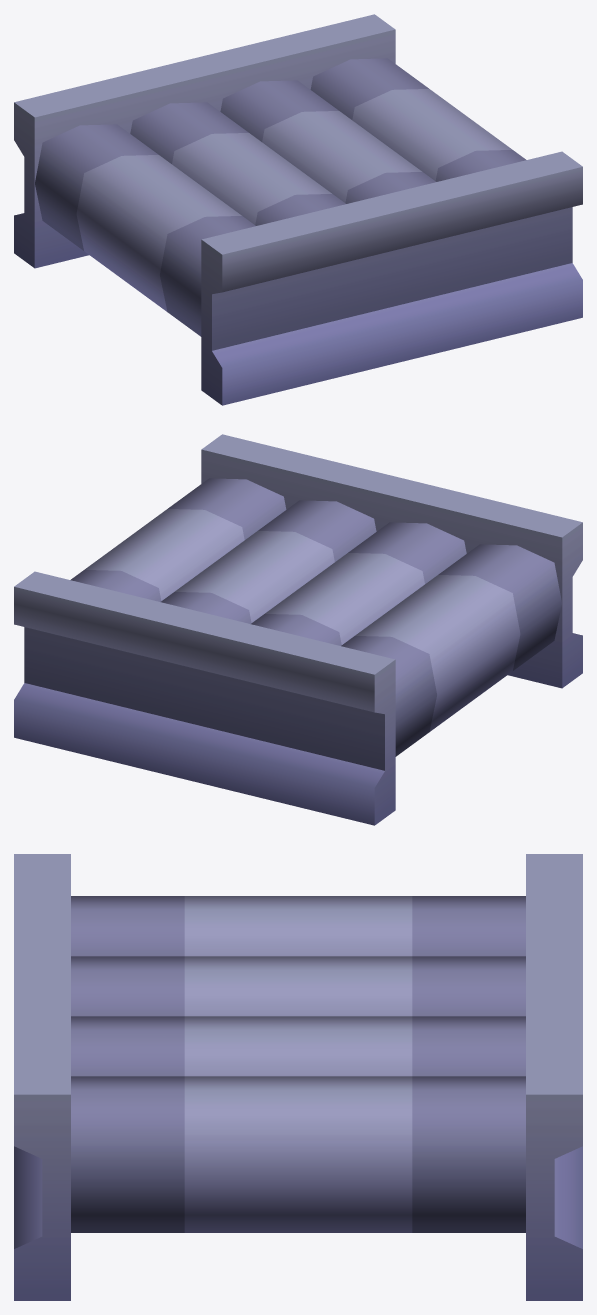
Rendered from kenney-conveyor-conveyor-bars-stripe-high.glb.
The picture shows the model from 3 angles, top to bottom: view 1: azimuth 30°, elevation 25°; view 2: azimuth 150°, elevation 25°; view 3: azimuth 270°, elevation 25°; orthographic projection. The views are drawn at different scales.
Parts seen in each view (by area): view 1: conveyor-bars-stripe-high; view 2: conveyor-bars-stripe-high; view 3: conveyor-bars-stripe-high.
Part boxes in pixels (x1,y1,x2,y2): conveyor-bars-stripe-high: (14,14,582,405); conveyor-bars-stripe-high: (14,434,582,825); conveyor-bars-stripe-high: (14,854,582,1300).
Bounding box in the file's own units: 1 × 0.3999 × 1.
1 material, 1 textured.
